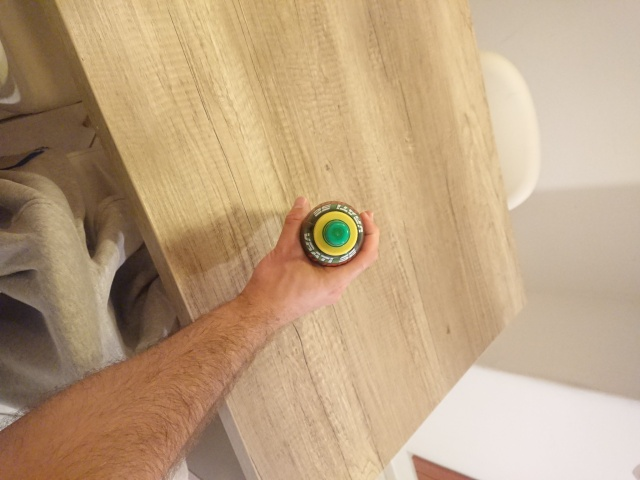Vindi Iso Sport Lemon-Grapefruit 500mL: (297, 198, 368, 269)
